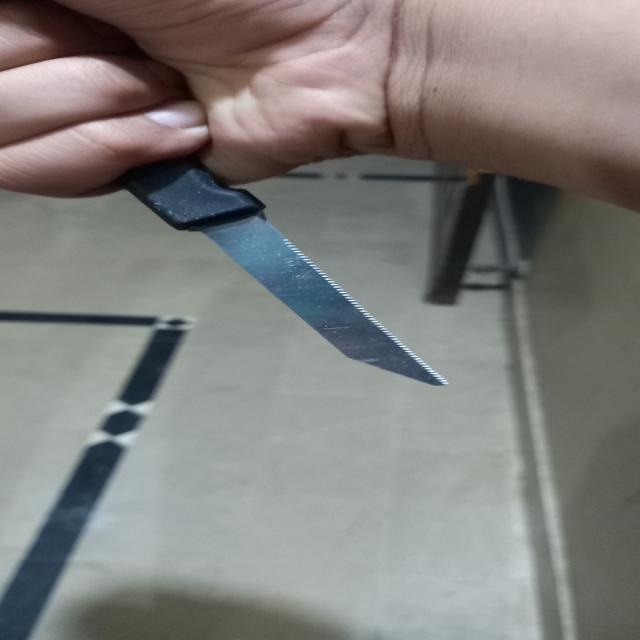Knife: (51, 53, 451, 390)
